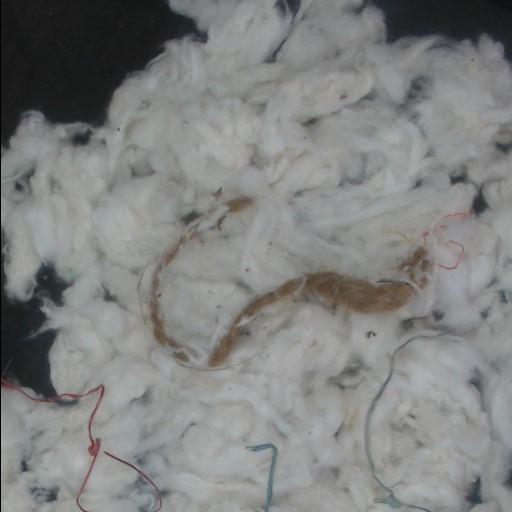cotton: (1, 0, 512, 511)
jute: (141, 227, 416, 368)
thread: (1, 380, 161, 511), (364, 336, 431, 511), (246, 443, 276, 511)
